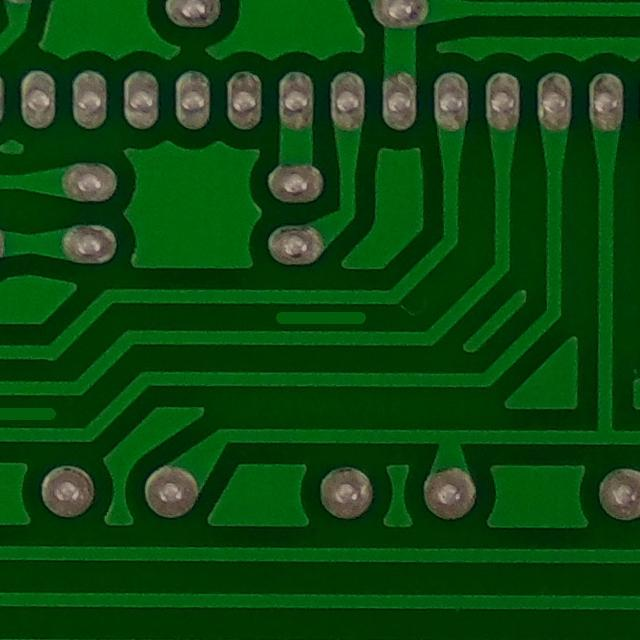spurious_copper: (266, 298, 375, 343)
